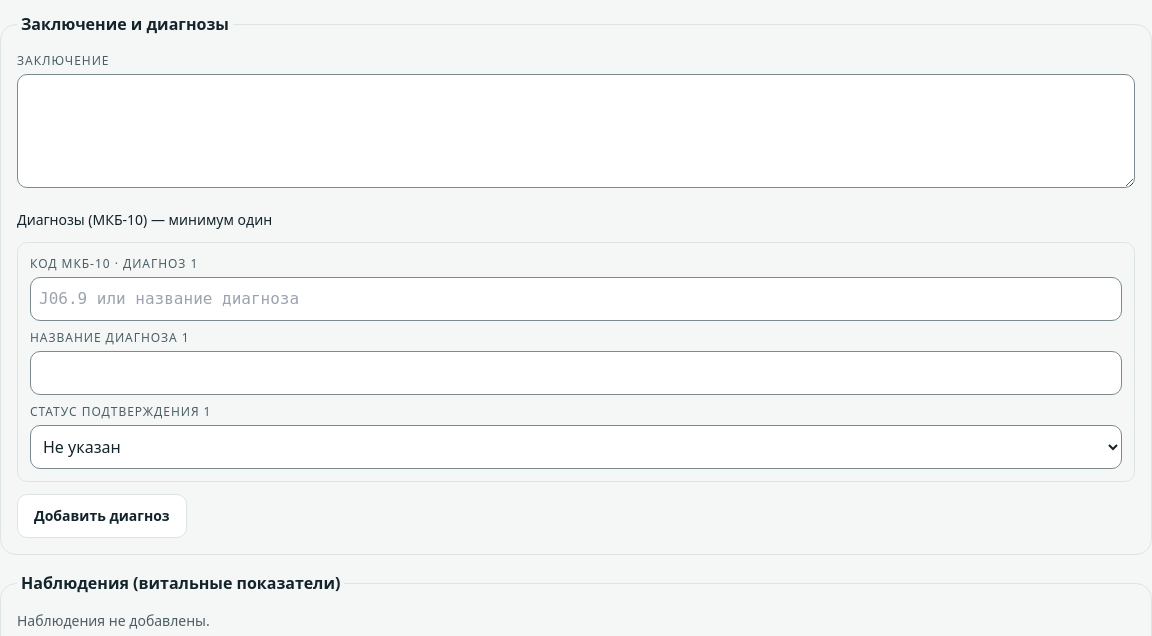
it: EncounterCompleteForm implicit submit › should still pick the active option when Enter is pressed in a code list
In the dropdown labelled "Код МКБ-10 · диагноз 1": {"x": 576, "y": 299} [30,277,1122,321], type "J06"
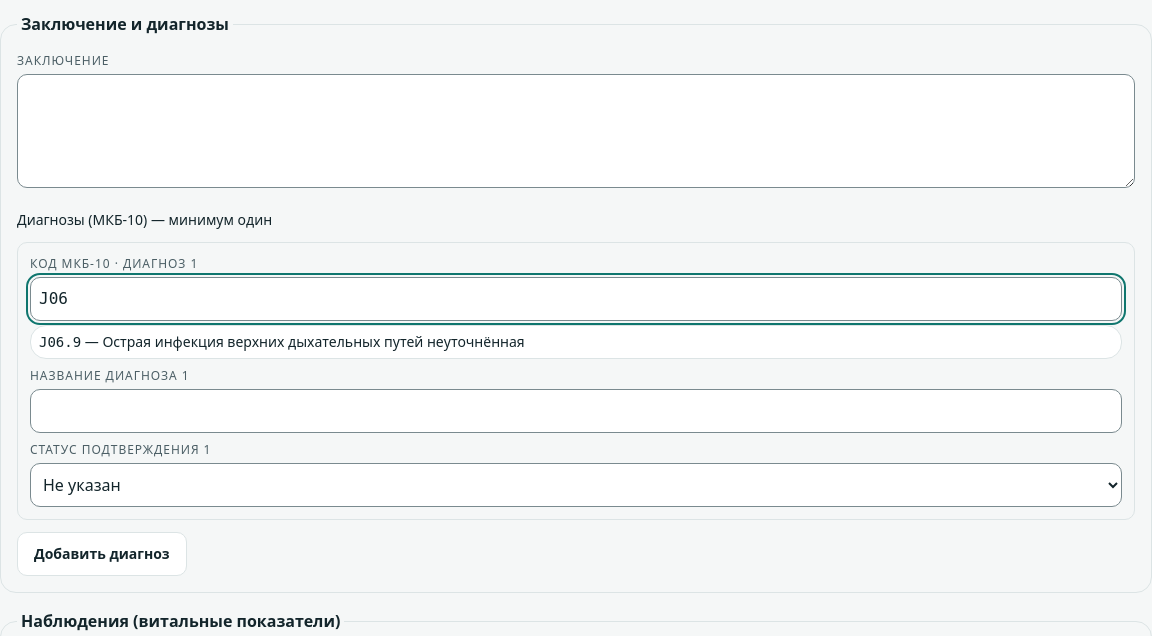
Expected: the option "J06.9" is shown, [39,332,525,351]
Press Arrowdown Enter
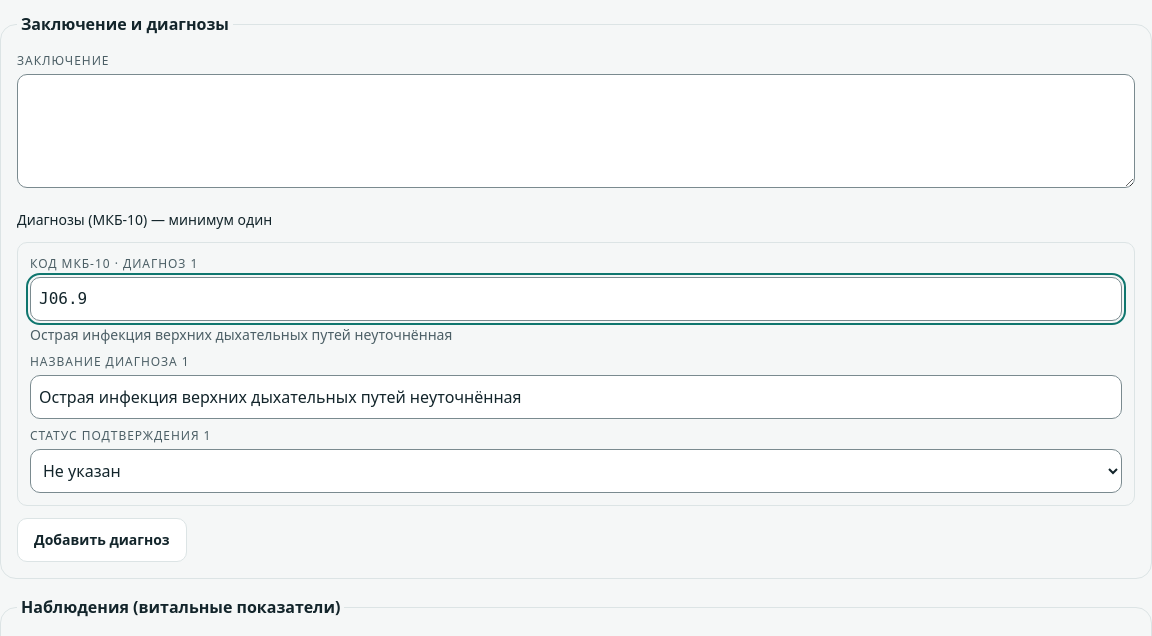
Expected: the dropdown labelled "Код МКБ-10 · диагноз 1" holds "J06.9", [30,277,1122,321]
